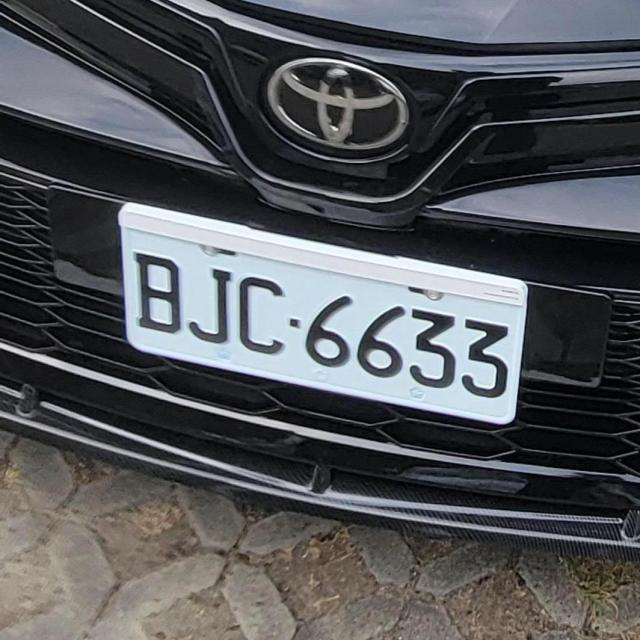W: (103, 215, 545, 414)
